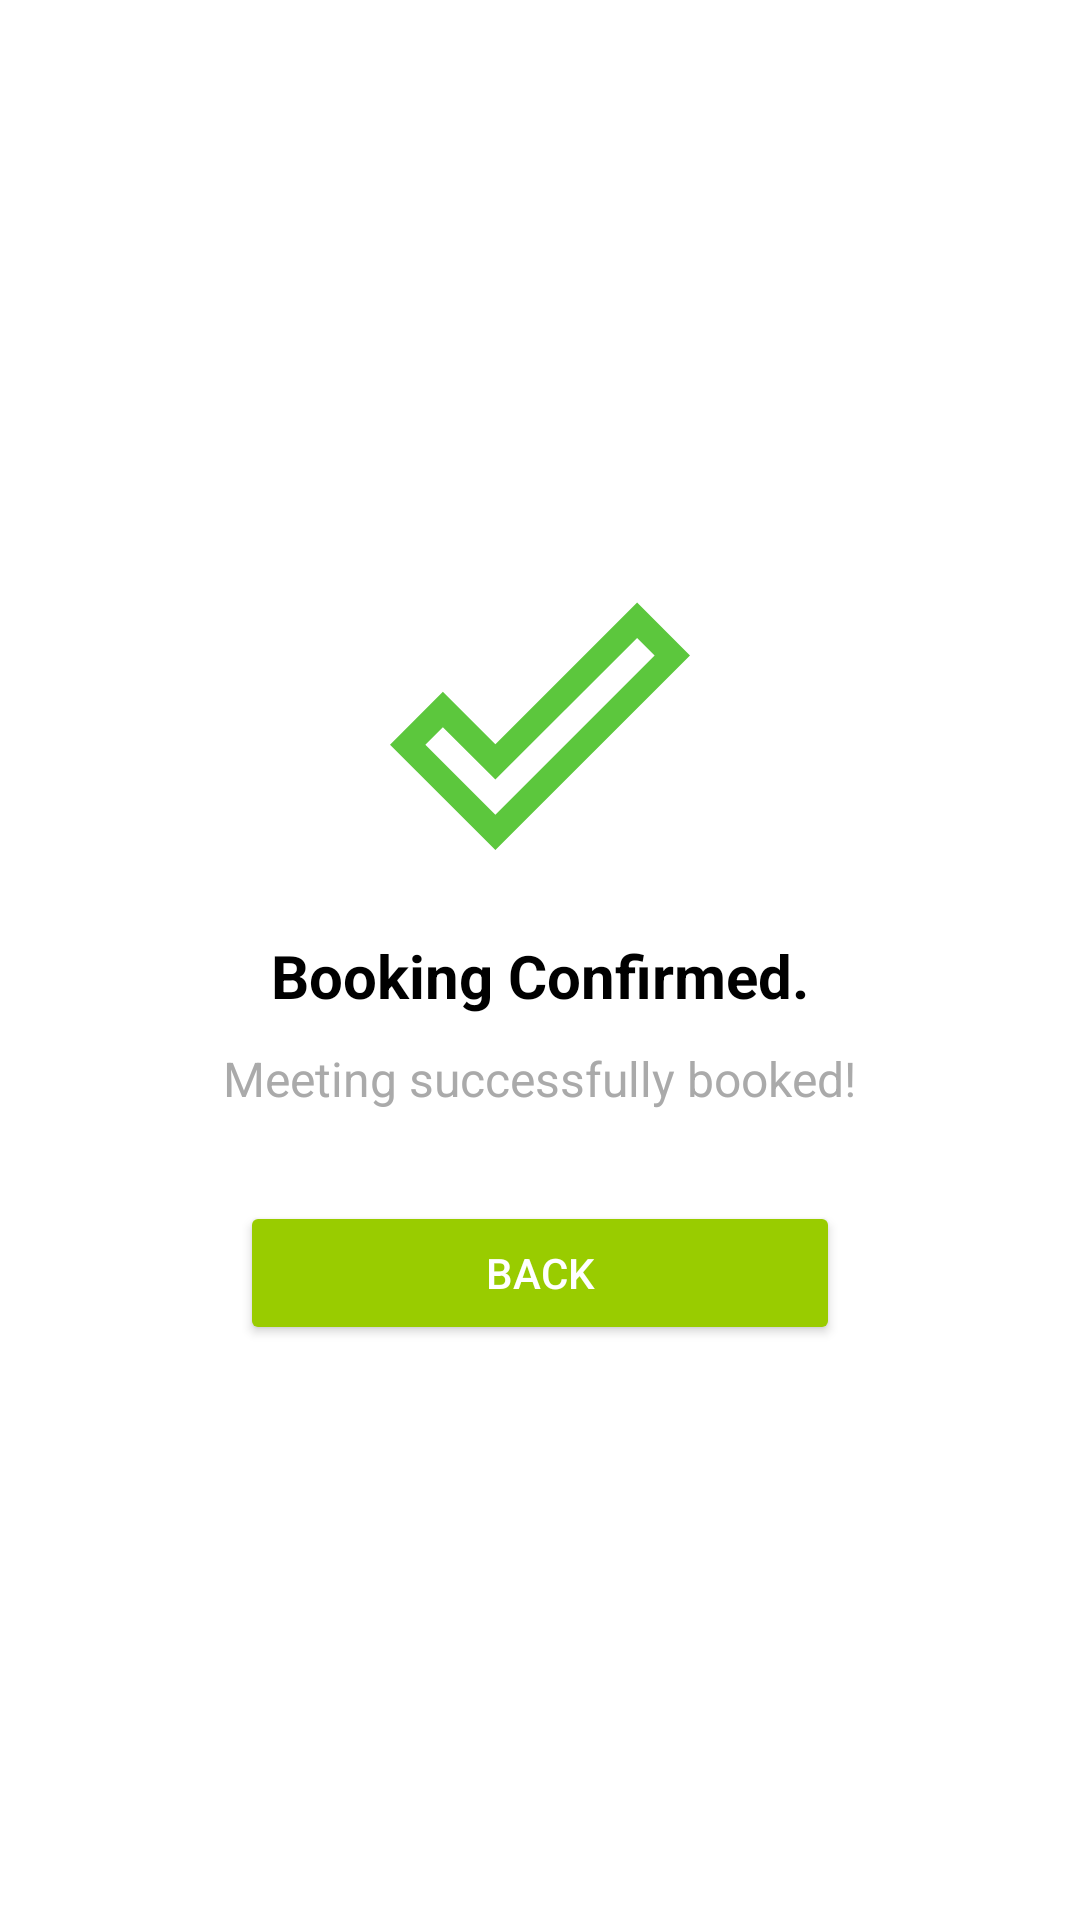

Screen size 1080 x 1920. Icon name, then its box in pixels as (x1, y1, x2, y2):
Confirmation Icon: (390, 602, 690, 850)
